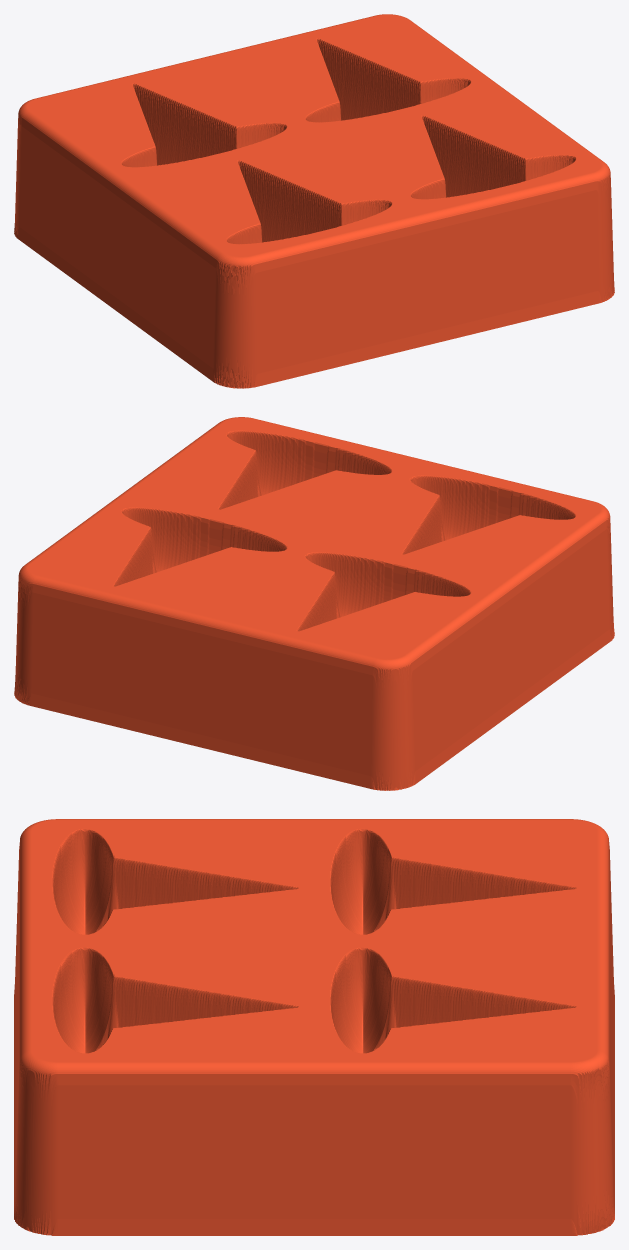
The model's file is mold.glb.
3 renders of one model, top to bottom at view 1: azimuth 30°, elevation 25°; view 2: azimuth 150°, elevation 25°; view 3: azimuth 270°, elevation 25°, orthographic. The views are drawn at different scales.
Parts seen in each view (by area): view 1: geometry_0; view 2: geometry_0; view 3: geometry_0.
Part boxes in pixels (x1=…): geometry_0: x1=14, y1=14, x2=614, y2=388; geometry_0: x1=14, y1=417, x2=614, y2=790; geometry_0: x1=14, y1=819, x2=614, y2=1235.
Bounding box in the file's own units: 0.1248 × 0.0378 × 0.1235.
